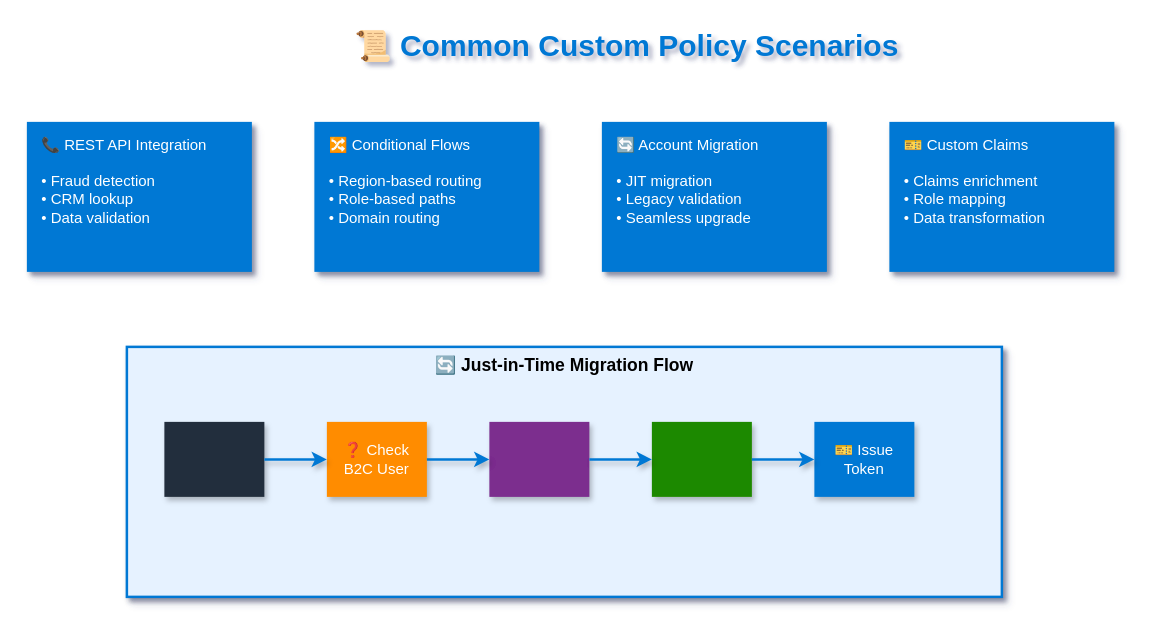
Some shapes in this 1150 by 635 pixel diagram are drawn without their labels. Each missing label, with the centre of its shape:
"✅ Create B2C Account" goes at point 702,460.
"👤 User Login" goes at point 215,460.
"📞 Call Legacy API" goes at point 540,460.
